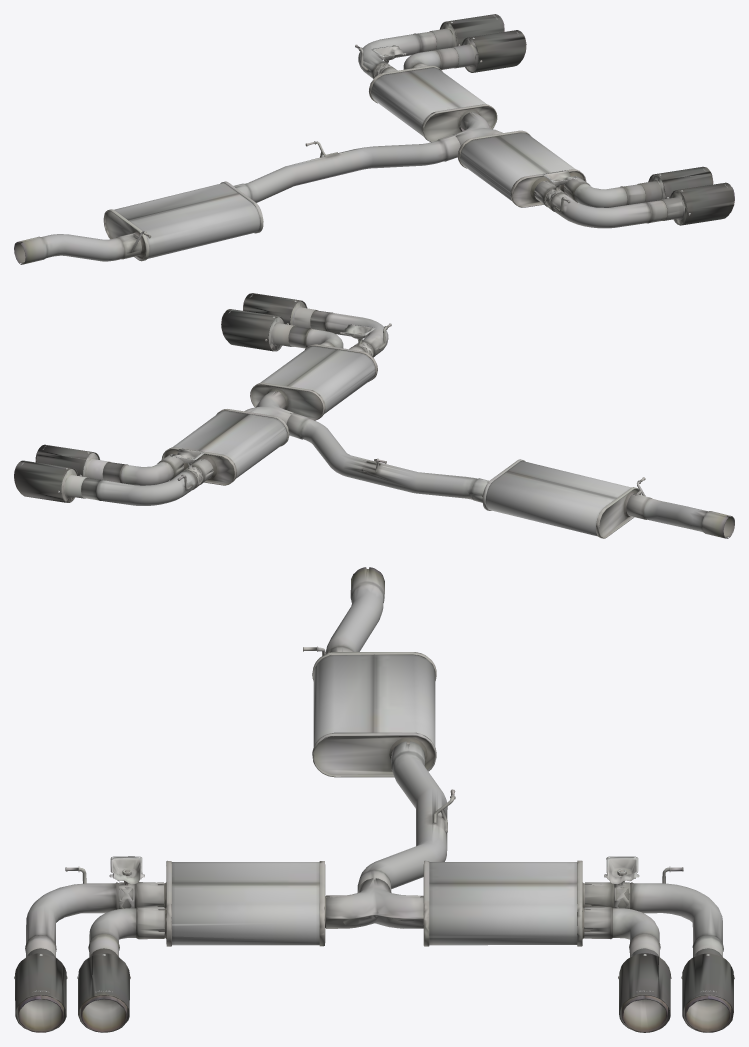
File: exhaust.glb
The picture shows the model from 3 angles, top to bottom: view 1: azimuth 30°, elevation 25°; view 2: azimuth 150°, elevation 25°; view 3: azimuth 270°, elevation 25°; orthographic projection. The views are drawn at different scales.
Parts seen in each view (by area): view 1: exhaust_01_mesh_00; view 2: exhaust_01_mesh_00; view 3: exhaust_01_mesh_00.
Boxes of the visible parts, x1,y1,x2,y2 form: exhaust_01_mesh_00: [14, 14, 734, 264]; exhaust_01_mesh_00: [14, 293, 734, 538]; exhaust_01_mesh_00: [14, 567, 734, 1032].
Size of the model in its own units: 2.21 by 0.1862 by 1.6.
1 material, 1 textured.
